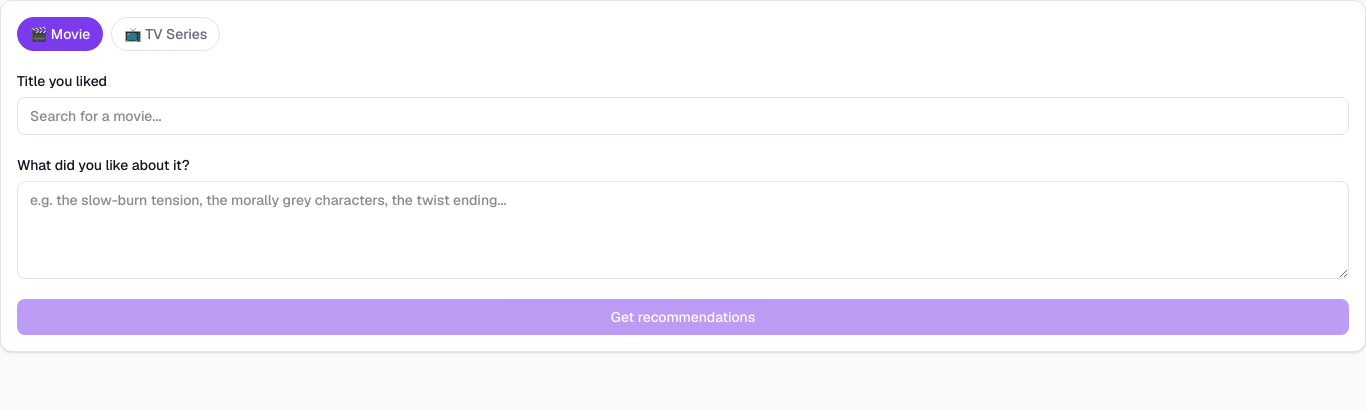
Test case: RecommendForm › shows the AI's error message after a failed submission
In the field labelled "Title you liked": point(683, 116) 17,97 -> 1349,135, type "Matrix"
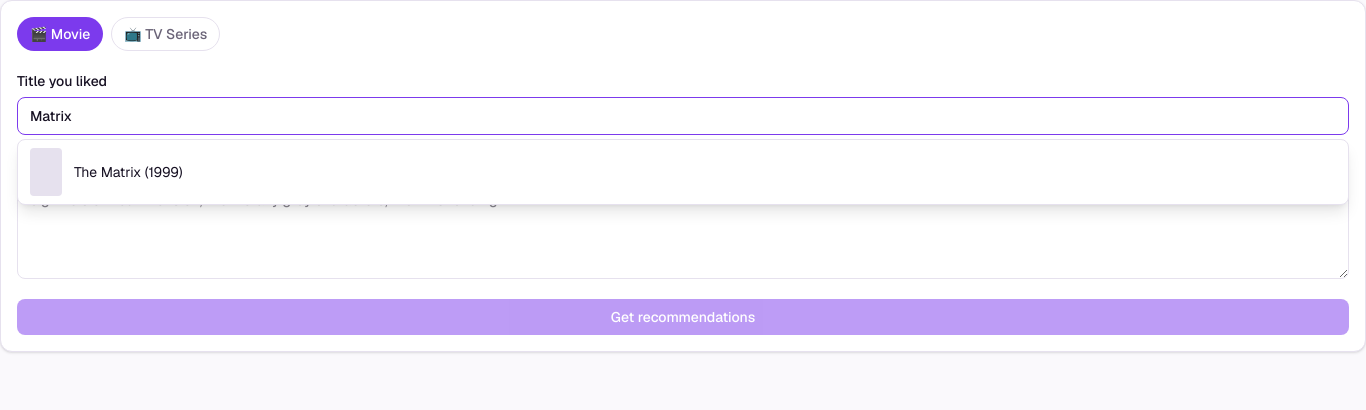
Click the button "The Matrix (1999)": point(46, 172) 18,140 -> 1348,204
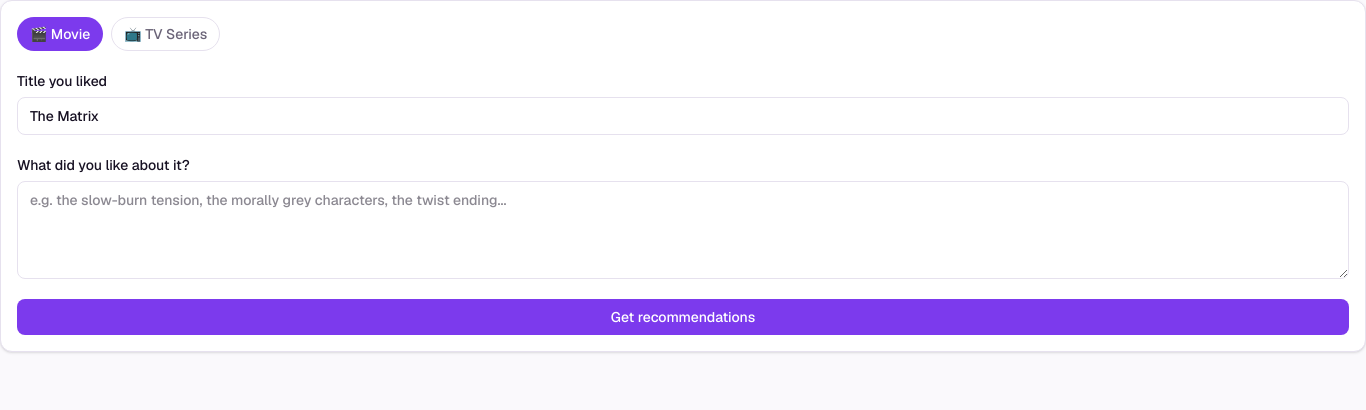
In the text box labelled "What did you like about it?": point(683, 230) 17,181 -> 1349,279, type "Loved the premise"
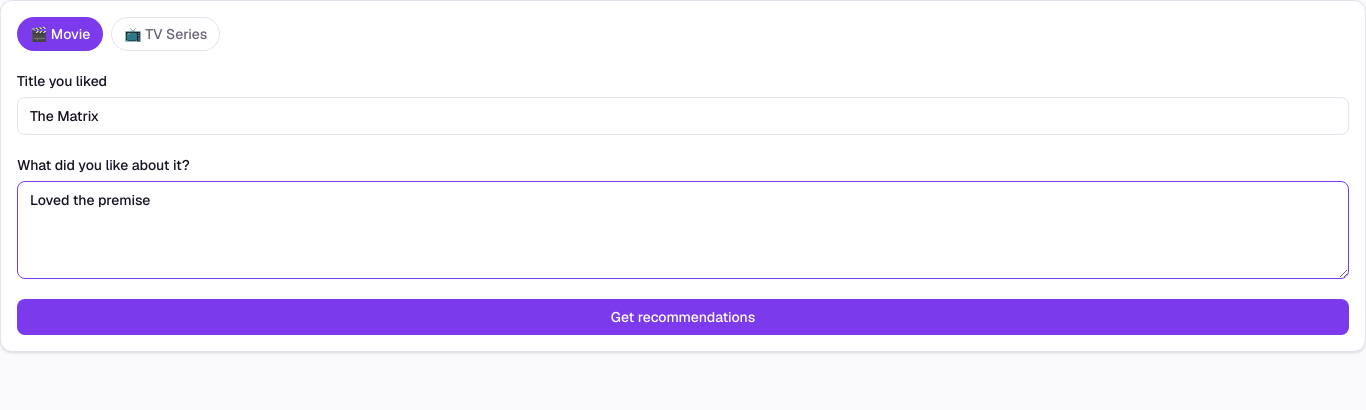
Now the button "Get recommendations" is enabled
Click the button "Get recommendations": point(683, 317) 17,299 -> 1349,335
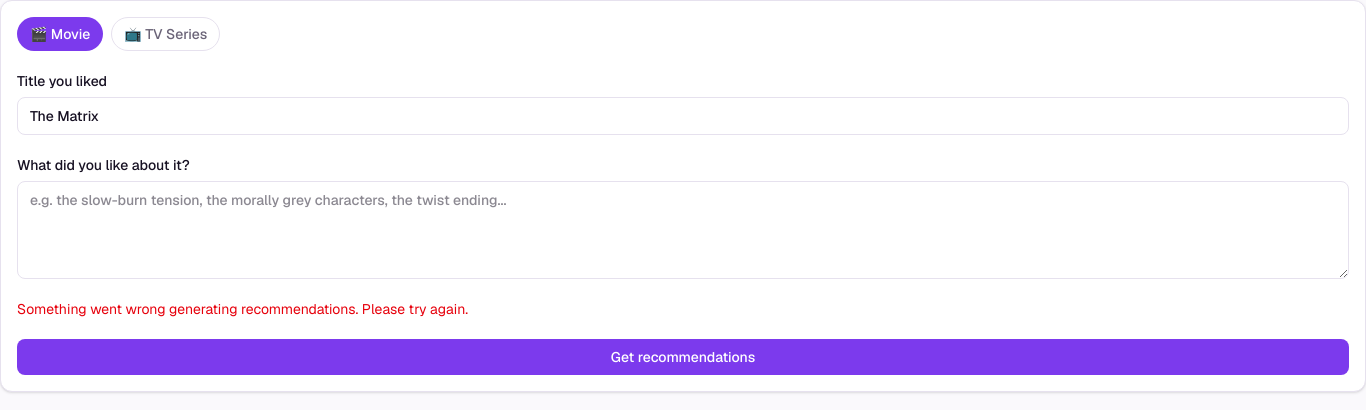
Now the message shows "Something went wrong", box 17,300 -> 468,318
